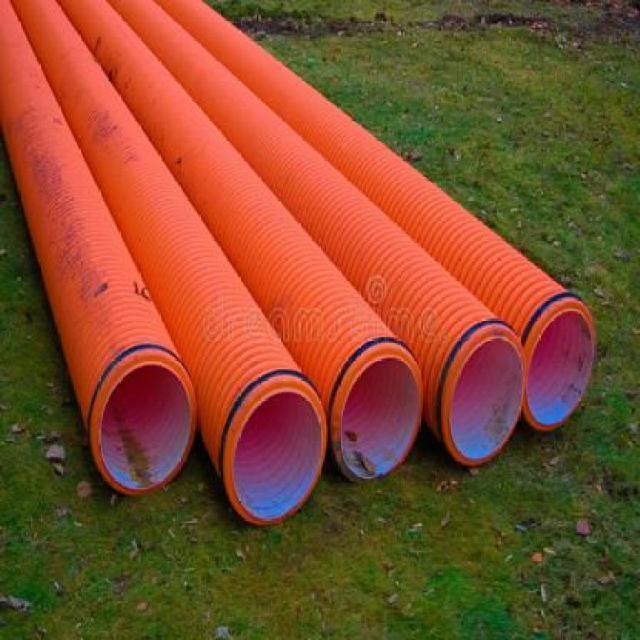pipe: (92, 353, 197, 496), (225, 378, 327, 524), (333, 346, 424, 482), (442, 327, 525, 464), (524, 301, 595, 432)
